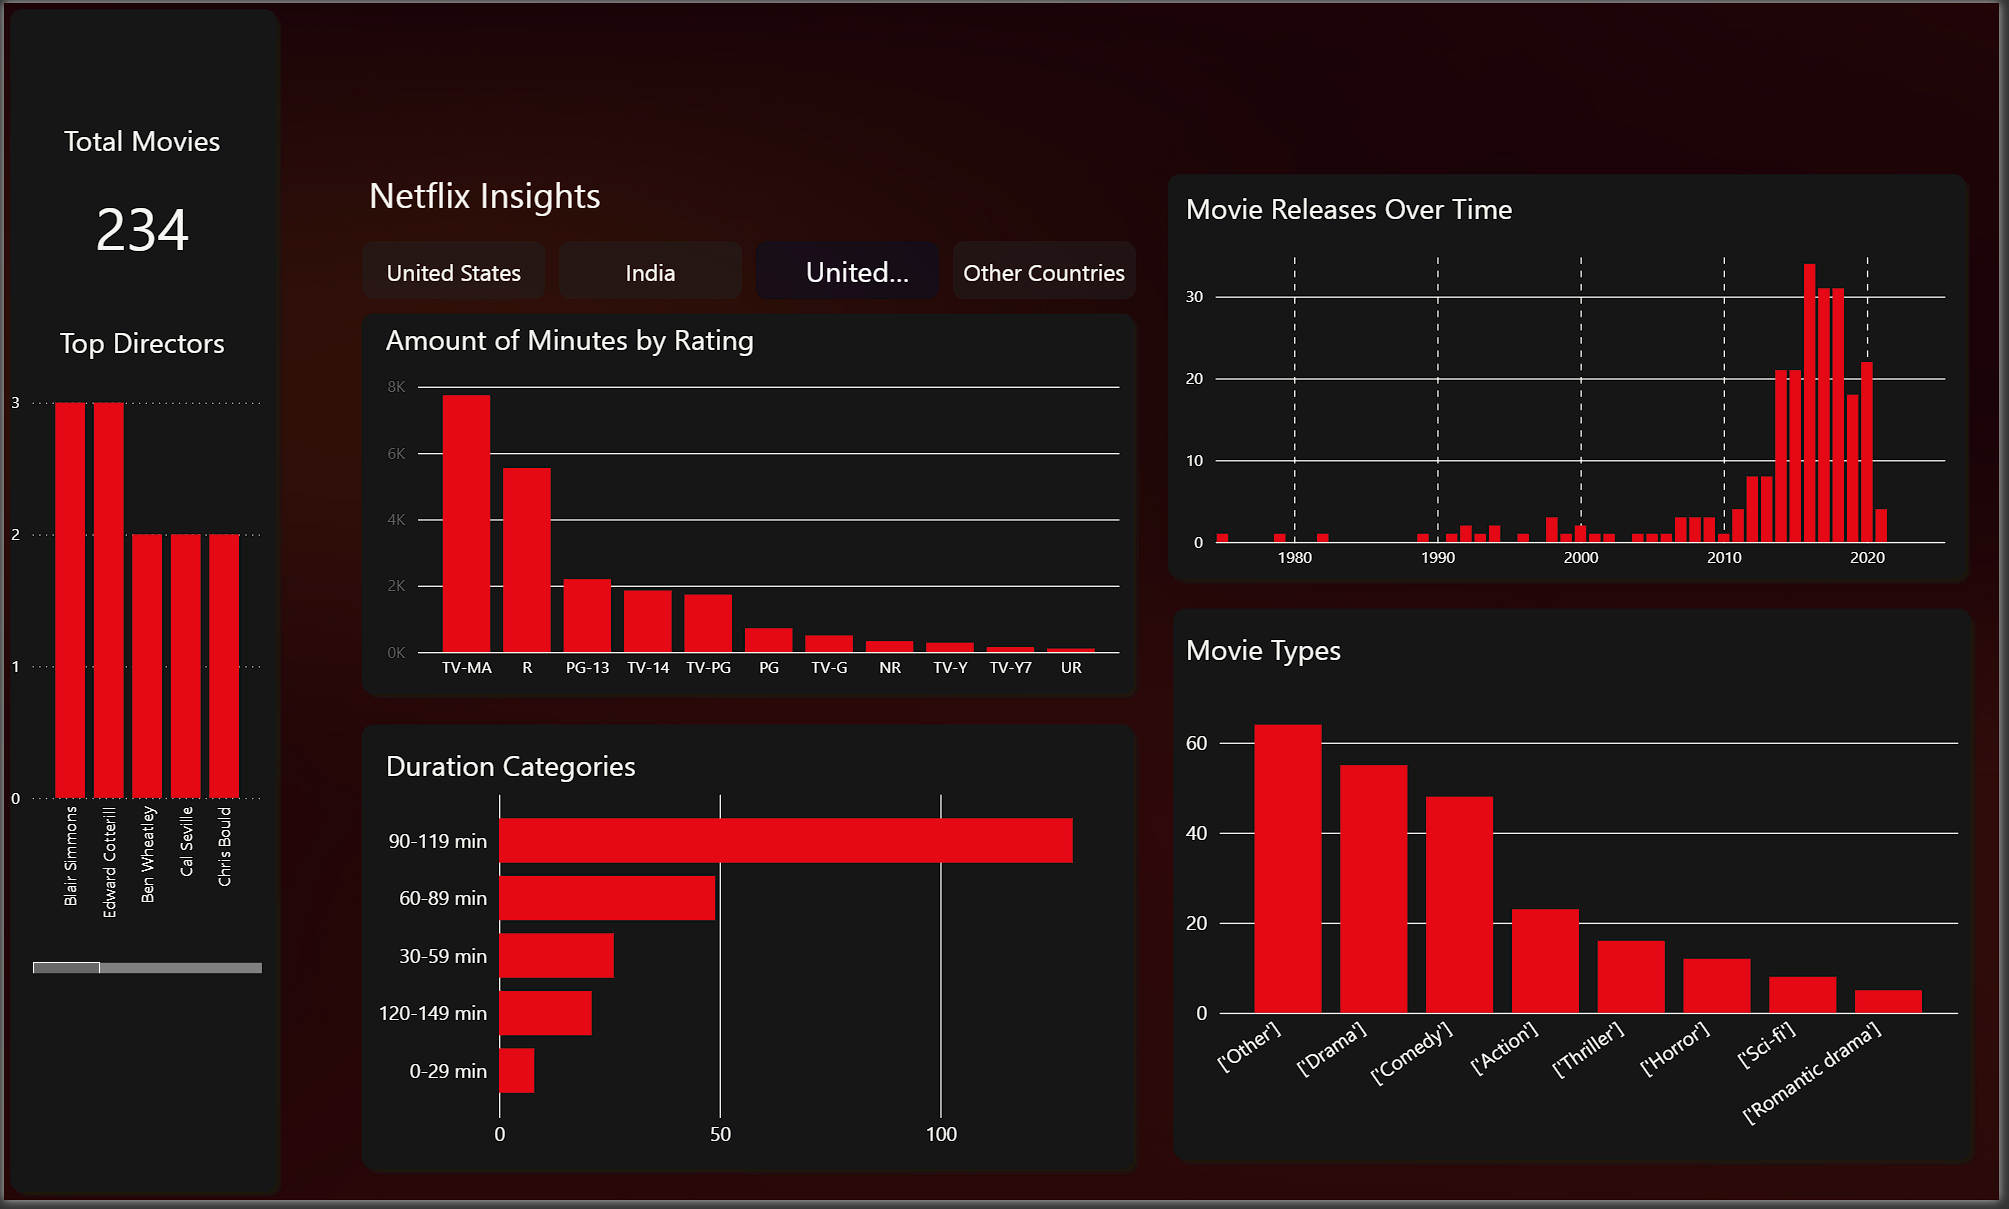

The dashboard page shown, as its layout file describes it:
{"tool":"powerbi","page":{"name":"United Kingdom","canvas":[1500,900],"ordinal":2},"visuals":[{"type":"textbox","box":[282,553.3,218,41],"z":0},{"type":"lineStackedColumnComboChart","fields":{"Y":["netflix_cleaned.count"],"Category":["netflix_cleaned.release_year"]},"box":[883.3,175.9,590.7,259.3],"z":1000},{"type":"textbox","box":[883.3,134.3,390.7,41.7],"z":2000},{"type":"clusteredColumnChart","fields":{"Category":["netflix_cleaned.rating"],"Y":["netflix_cleaned.duration_minutes"]},"box":[282.4,274.1,561.1,243.5],"z":3000},{"type":"textbox","box":[282,232.8,390.2,41],"z":4000},{"type":"pageNavigator","box":[269.4,178.7,584.3,44.4],"z":6000},{"type":"card","fields":{"Values":["netflix_cleaned.count"]},"box":[9.3,134.3,189.8,66.7],"z":7000},{"type":"textbox","box":[883.6,466.4,149.1,41.8],"z":9000},{"type":"textbox","box":[9.3,83.3,189.8,50.9],"z":10000},{"type":"clusteredColumnChart","fields":{"Category":["netflix_cleaned.broad_genres"],"Y":["netflix_cleaned.count"]},"box":[883.3,508.3,590.7,363],"z":12000},{"type":"barChart","fields":{"Category":["netflix_cleaned.duration_bin"],"Y":["netflix_cleaned.count"]},"box":[269.1,582.7,584.5,288.2],"z":13000},{"type":"textbox","box":[269.1,120,320,56.4],"z":13003},{"type":"textbox","box":[9.1,235.5,190,50.9],"z":13004},{"type":"lineStackedColumnComboChart","fields":{"Category":["netflix_cleaned.director"],"Y":["netflix_cleaned.count"]},"box":[0,286.4,199.1,448.2],"z":13005}]}

Visuals, with their boxes in screenshot pixels (x1, y1, x2, y2), scaled from the page's 1500x900 canvas onto the 2009x1209 screenshot:
textbox: rect(378, 743, 670, 798)
lineStackedColumnComboChart - netflix_cleaned.count x netflix_cleaned.release_year: rect(1183, 236, 1974, 585)
textbox: rect(1183, 180, 1706, 236)
clusteredColumnChart - netflix_cleaned.rating x netflix_cleaned.duration_minutes: rect(378, 368, 1130, 695)
textbox: rect(378, 313, 900, 368)
pageNavigator: rect(361, 240, 1143, 300)
card - netflix_cleaned.count: rect(12, 180, 267, 270)
textbox: rect(1183, 627, 1383, 683)
textbox: rect(12, 112, 267, 180)
clusteredColumnChart - netflix_cleaned.broad_genres x netflix_cleaned.count: rect(1183, 683, 1974, 1170)
barChart - netflix_cleaned.duration_bin x netflix_cleaned.count: rect(360, 783, 1143, 1170)
textbox: rect(360, 161, 789, 237)
textbox: rect(12, 316, 267, 385)
lineStackedColumnComboChart - netflix_cleaned.director x netflix_cleaned.count: rect(0, 385, 267, 987)
